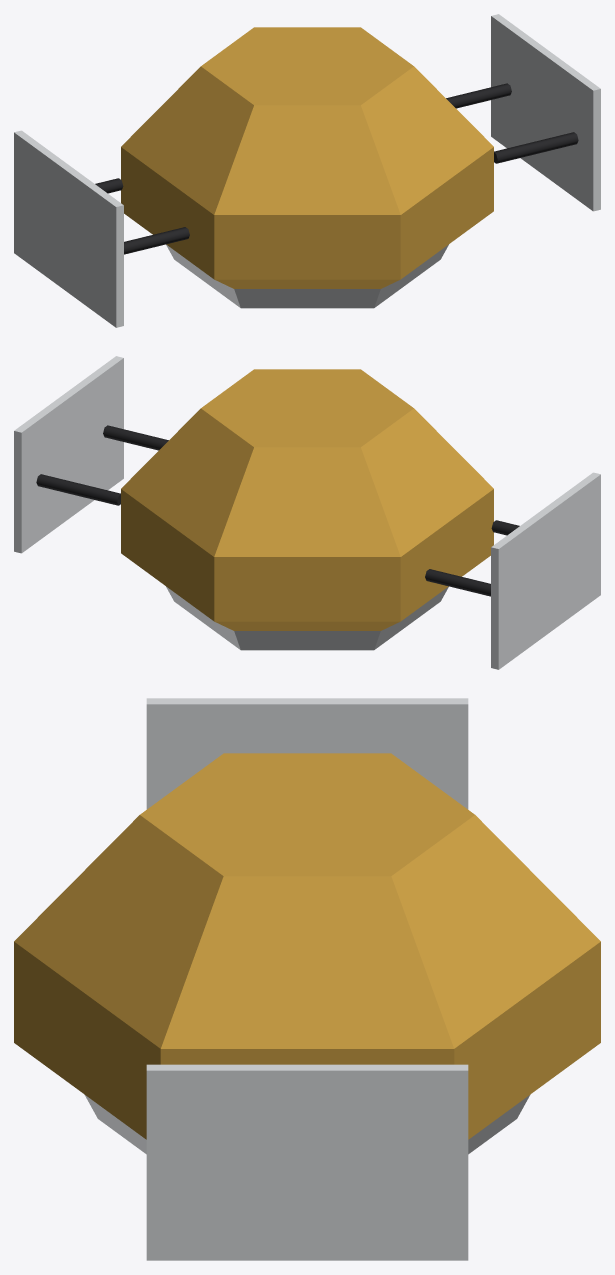
File: r1_transceiver.obj
The picture shows the model from 3 angles, top to bottom: view 1: azimuth 30°, elevation 25°; view 2: azimuth 150°, elevation 25°; view 3: azimuth 270°, elevation 25°; orthographic projection. The views are drawn at different scales.
Visible parts, largest first — view 1: r1_transceiver; view 2: r1_transceiver; view 3: r1_transceiver.
Part boxes in pixels (x1,y1,x2,y2): r1_transceiver: [14, 14, 600, 327]; r1_transceiver: [14, 356, 600, 669]; r1_transceiver: [14, 698, 600, 1260].
Size of the model in its own units: 1.26 by 0.48 by 0.84.
